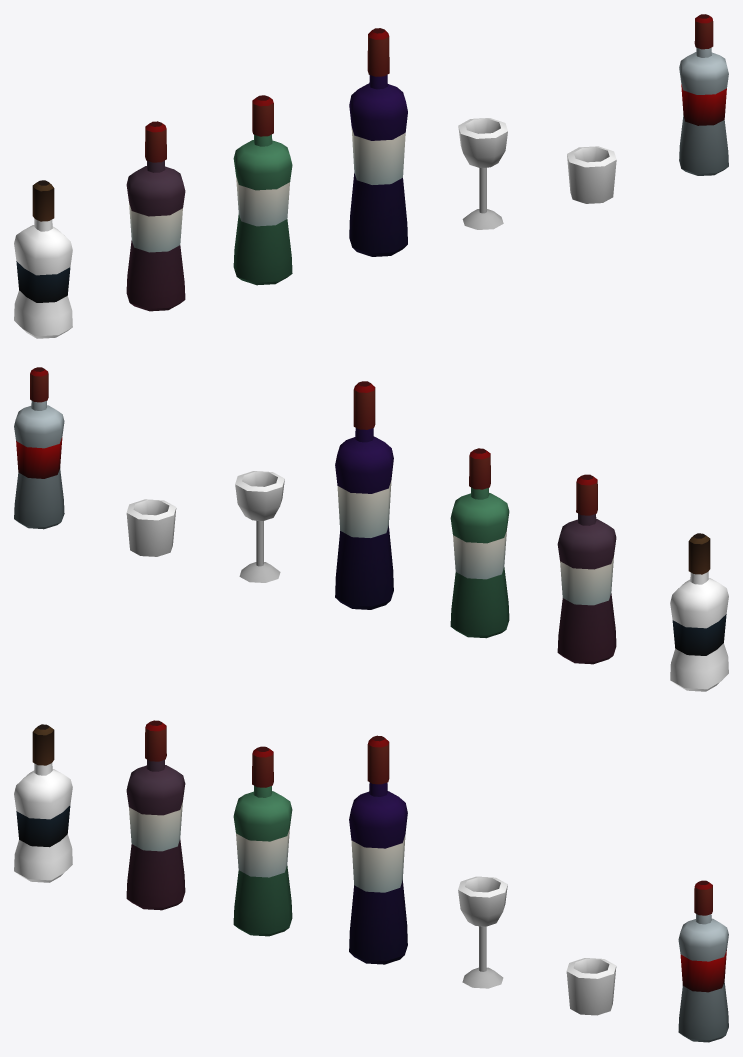
The model's file is Drinks.fbx.
3 renders of one model, top to bottom at view 1: azimuth 30°, elevation 25°; view 2: azimuth 150°, elevation 25°; view 3: azimuth 330°, elevation 25°, orthographic.
Visible parts, largest first — view 1: Wine01, Wine02, Wine03, Whisky, Vodka, Cup02, Cup01; view 2: Wine01, Wine03, Wine02, Whisky, Vodka, Cup02, Cup01; view 3: Wine01, Wine03, Wine02, Whisky, Vodka, Cup02, Cup01.
Part boxes in pixels (left/top/right/bottom): Wine01: left=349, top=28, right=407, bottom=256; Wine02: left=233, top=95, right=292, bottom=285; Wine03: left=126, top=121, right=185, bottom=311; Whisky: left=14, top=180, right=72, bottom=338; Vodka: left=679, top=14, right=728, bottom=175; Cup02: left=458, top=118, right=507, bottom=229; Cup01: left=567, top=146, right=616, bottom=203; Wine01: left=335, top=381, right=393, bottom=609; Wine03: left=557, top=474, right=616, bottom=664; Wine02: left=450, top=448, right=509, bottom=638; Whisky: left=670, top=533, right=728, bottom=691; Vodka: left=14, top=367, right=64, bottom=529; Cup02: left=235, top=471, right=284, bottom=582; Cup01: left=126, top=499, right=176, bottom=556; Wine01: left=349, top=735, right=407, bottom=964; Wine03: left=126, top=720, right=185, bottom=910; Wine02: left=233, top=746, right=292, bottom=936; Whisky: left=14, top=724, right=72, bottom=882; Vodka: left=678, top=880, right=728, bottom=1042; Cup02: left=458, top=876, right=507, bottom=988; Cup01: left=566, top=958, right=616, bottom=1015.
Bounding box in the file's own units: 212 × 62.19 × 15.9.
